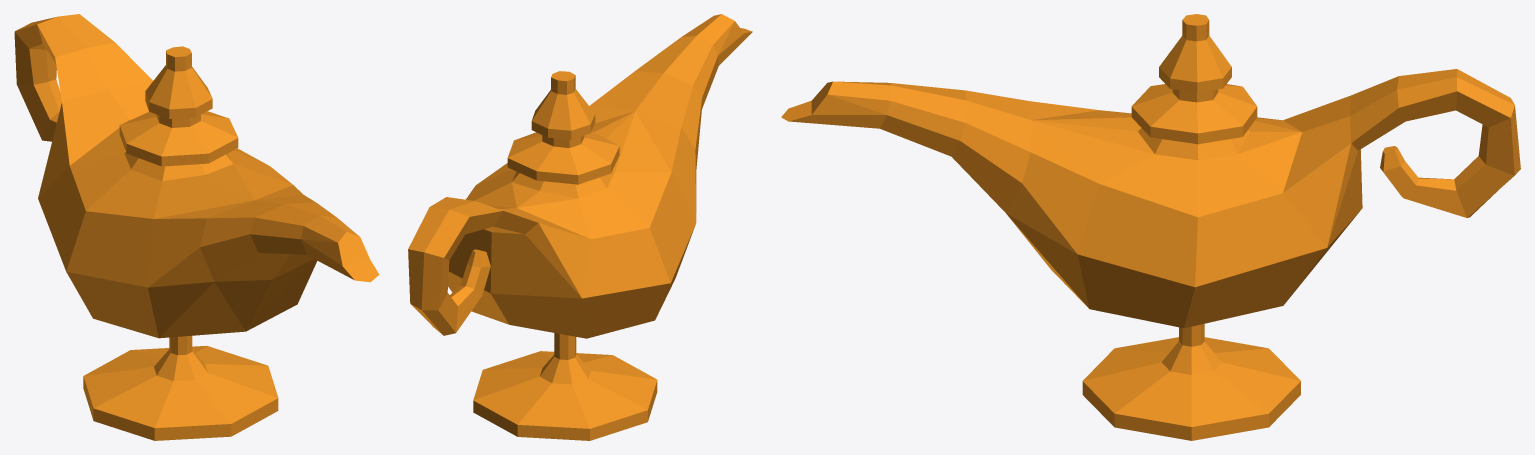
The model's file is aladinLamp.FBX.
The picture shows the model from 3 angles, left to right: view 1: azimuth 30°, elevation 25°; view 2: azimuth 150°, elevation 25°; view 3: azimuth 270°, elevation 25°; orthographic projection. The views are drawn at different scales.
Parts seen in each view (by area): view 1: aladinLamp; view 2: aladinLamp; view 3: aladinLamp.
Part boxes in pixels (x1,y1,x2,y2): aladinLamp: (14, 14, 379, 440); aladinLamp: (408, 14, 752, 440); aladinLamp: (781, 14, 1520, 440).
Bounding box in the file's own units: 0.567 × 0.8292 × 1.48.
